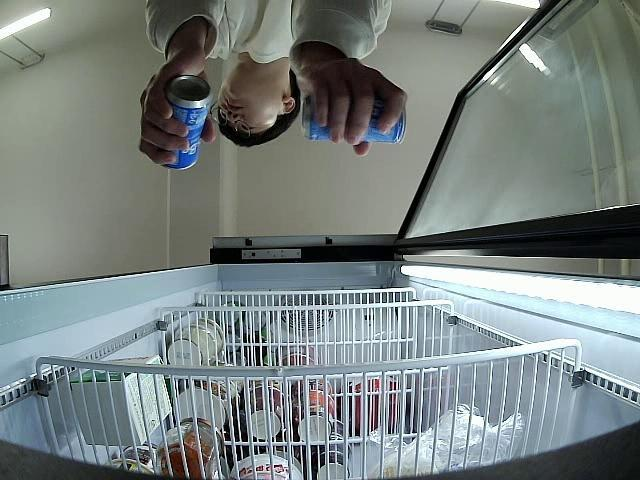15_letsbe: (300, 92, 409, 144), (162, 74, 214, 172)
